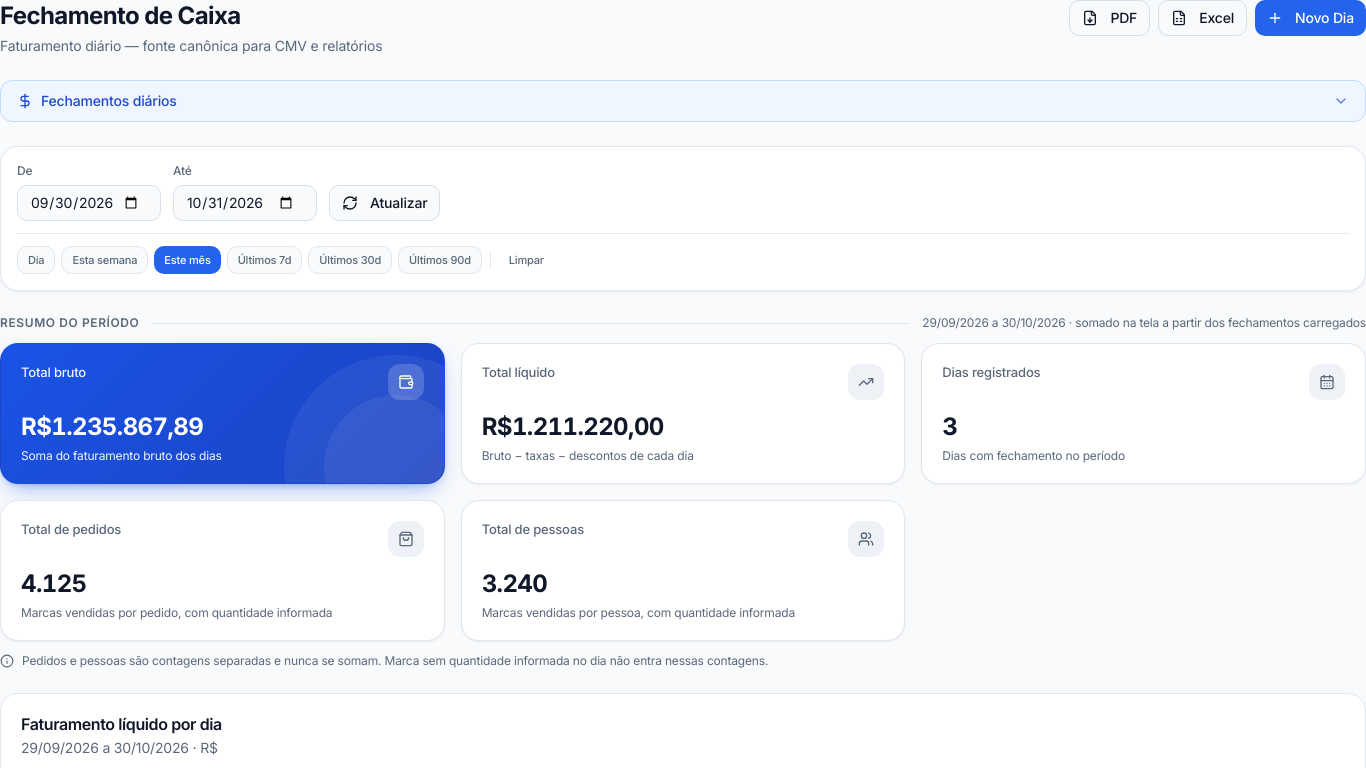
Fechamento de Caixa (V2) › Novo Dia abre o formulário com rótulos associados e somas ao vivo; fechar não grava
Click the button "Novo Dia". click: (1311, 18)
box: x1=1255 y1=0 x2=1365 y2=36
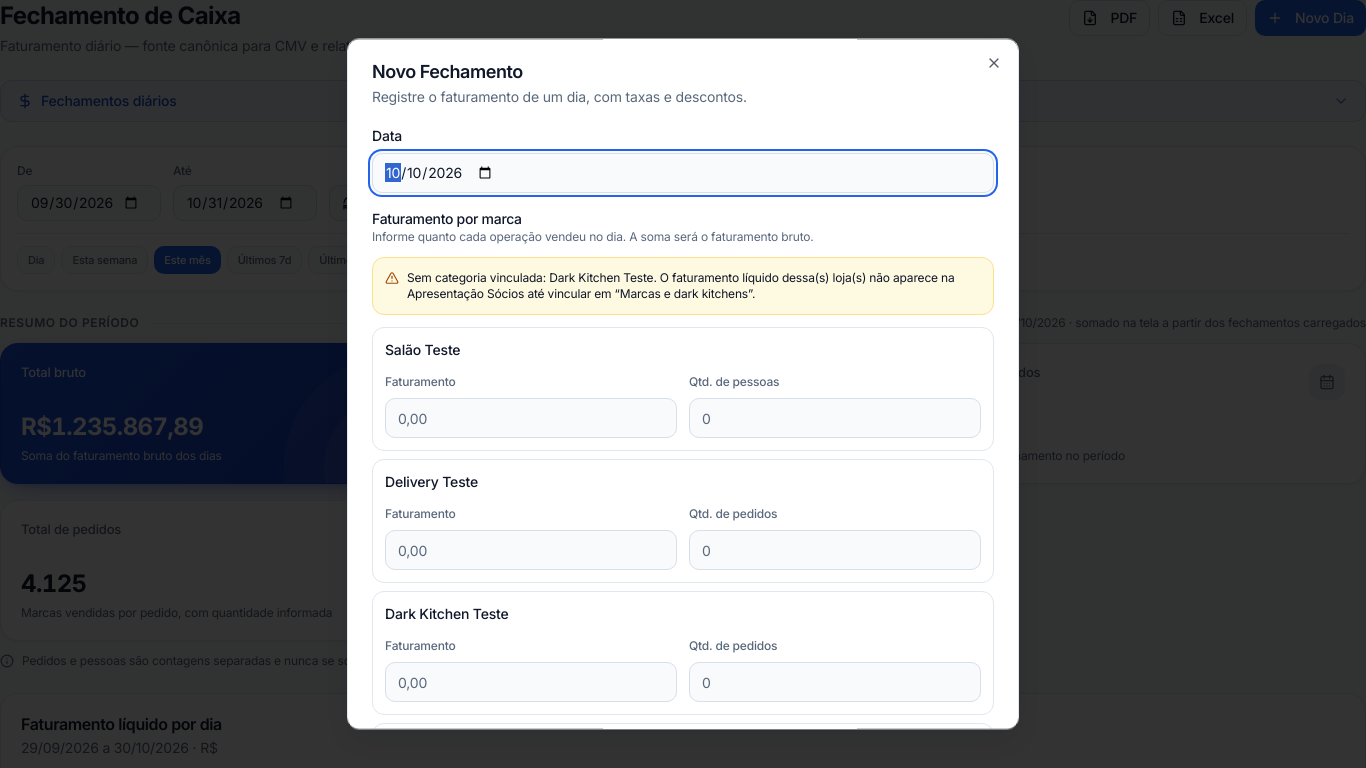
Expected: the date field labelled "Data" is shown, x1=372 y1=153 x2=994 y2=193
Expected: the field named "Faturamento — Salão Teste" is shown, x1=385 y1=398 x2=677 y2=438
Expected: the field named "Qtd. de pessoas — Salão Teste" is shown, x1=689 y1=398 x2=981 y2=438
Press Escape in the dialog "Novo Fechamento", box x1=347 y1=38 x2=1019 y2=730
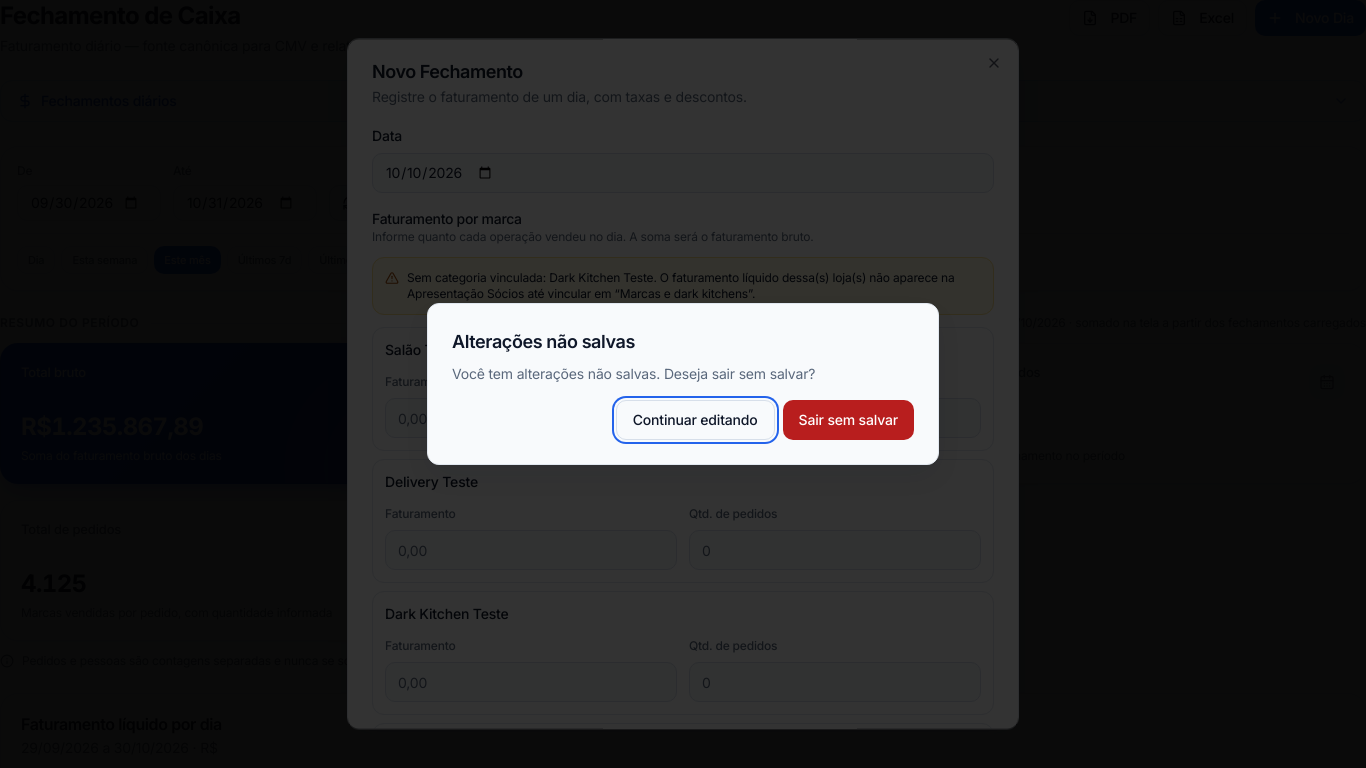
Click the button "Sair sem salvar". click: (848, 420)
box: x1=783 y1=400 x2=914 y2=440
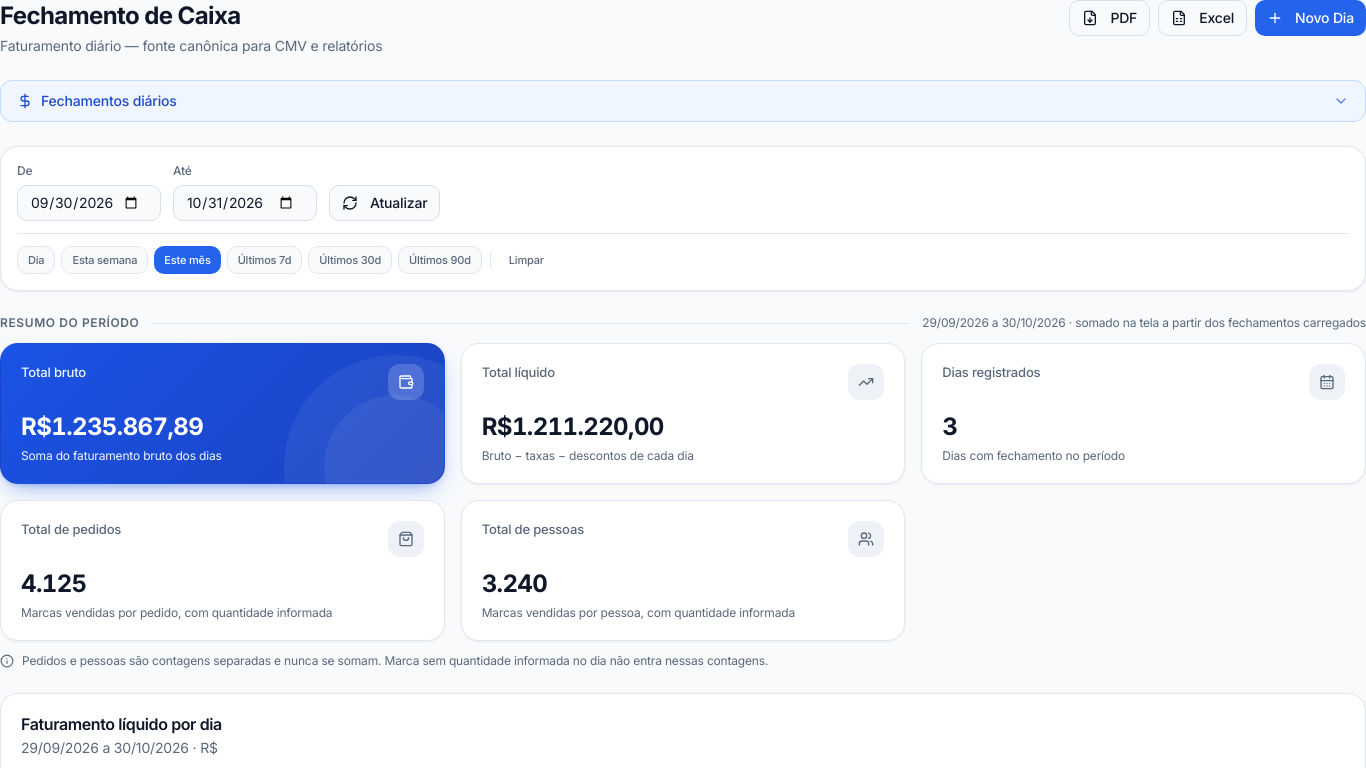
Expected: the heading "Novo Fechamento" is gone
